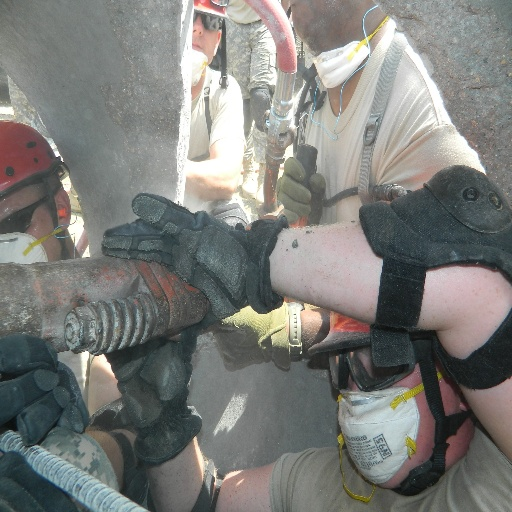hand: (98, 189, 252, 335), (99, 326, 200, 434), (0, 332, 92, 432), (210, 304, 271, 375), (274, 154, 326, 223)
